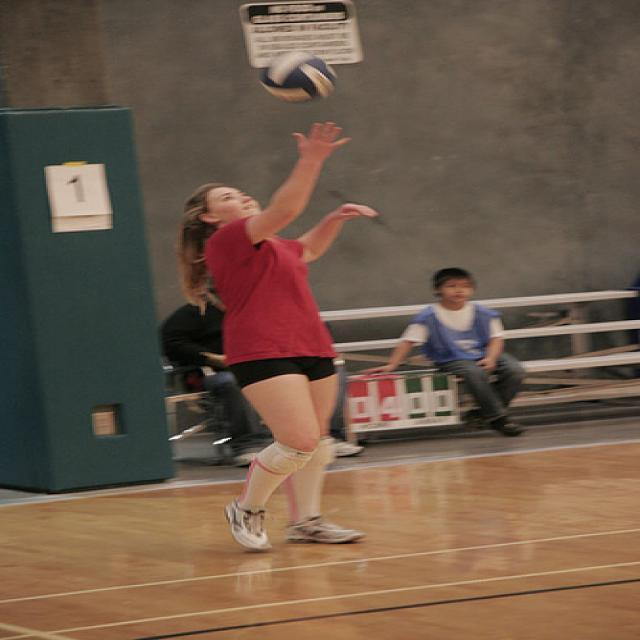volleyball: (260, 48, 335, 102)
